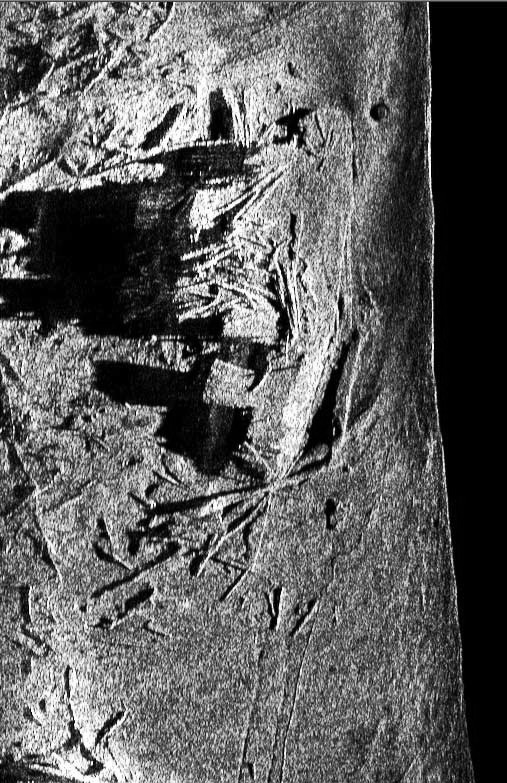ship: (189, 103, 354, 478)
